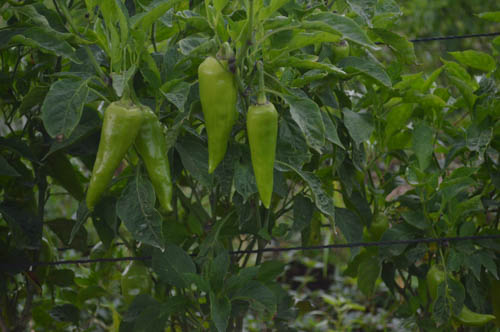ChiliPepper: (88, 103, 140, 209), (197, 57, 239, 175), (136, 102, 175, 208), (247, 103, 280, 214)
